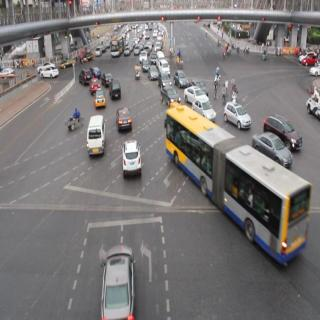BigCar: (160, 90, 302, 255), (106, 32, 128, 59)
Car: (97, 243, 142, 320), (260, 106, 303, 150), (249, 128, 290, 170), (115, 131, 140, 181), (84, 113, 108, 155), (182, 78, 208, 108), (224, 97, 250, 125), (193, 94, 215, 121), (37, 65, 62, 88), (115, 106, 133, 136), (57, 48, 78, 72), (85, 72, 106, 94), (91, 90, 110, 114), (83, 42, 99, 66), (157, 55, 172, 80), (177, 63, 190, 90), (107, 83, 125, 102), (146, 67, 160, 81), (88, 61, 100, 76), (94, 45, 104, 62), (81, 70, 93, 82), (100, 73, 111, 86), (140, 50, 148, 61), (122, 49, 131, 58), (143, 58, 148, 70), (135, 45, 139, 58)
